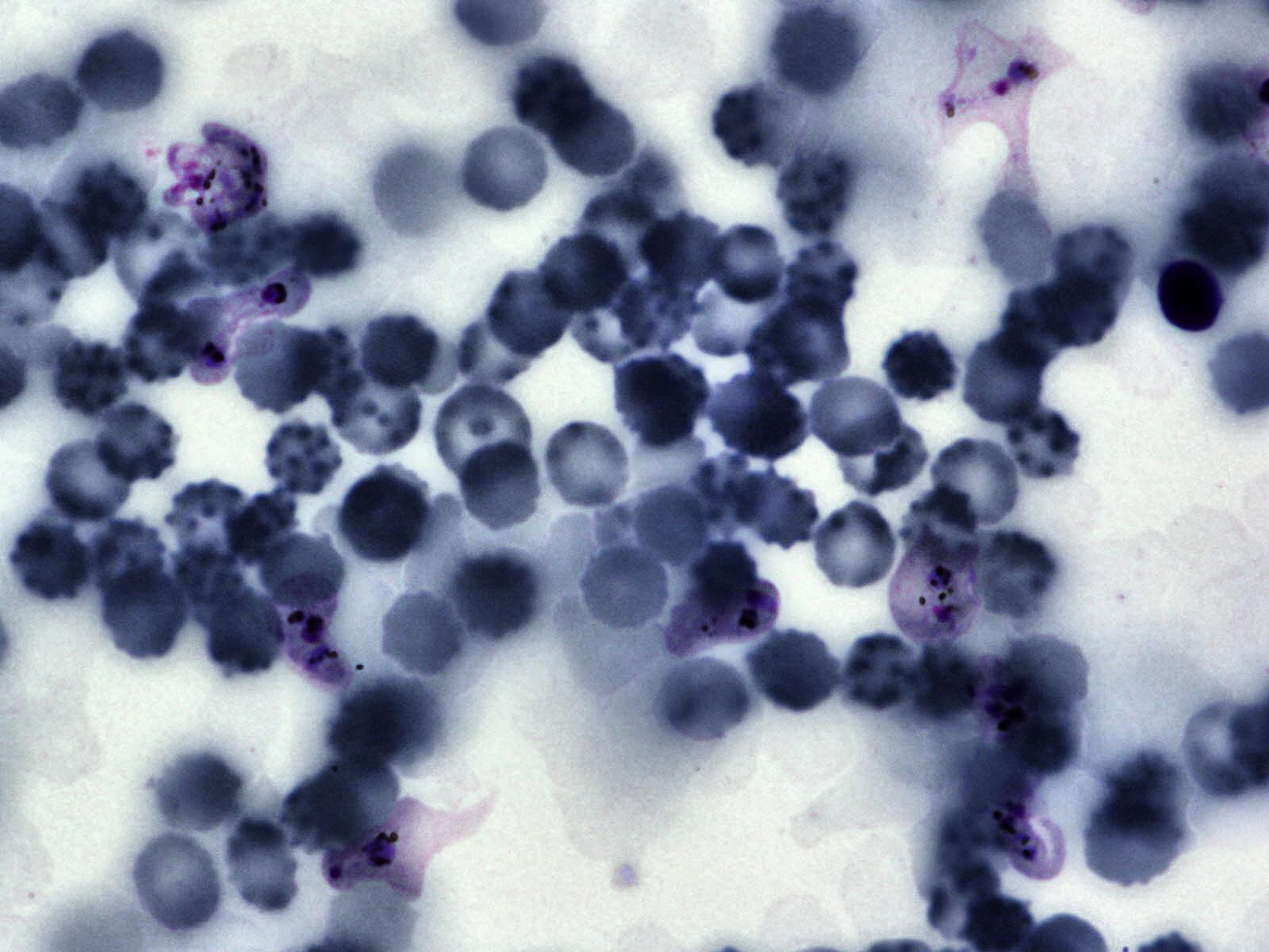Infected: (940, 25, 1056, 159), (322, 799, 475, 898), (159, 125, 269, 235), (889, 536, 983, 647), (266, 575, 350, 697), (660, 577, 780, 655), (987, 774, 1068, 881), (189, 268, 312, 324), (178, 317, 277, 385), (967, 654, 1045, 739), (1151, 254, 1229, 336)
Uninfected: (427, 378, 532, 489), (1079, 791, 1187, 892), (324, 357, 425, 459), (128, 828, 224, 935), (336, 466, 432, 568), (611, 350, 707, 451), (543, 87, 641, 185), (538, 416, 635, 515), (926, 435, 1025, 531), (959, 329, 1052, 431), (807, 498, 903, 596), (573, 537, 669, 633), (229, 318, 324, 415), (71, 25, 168, 119), (967, 527, 1061, 624), (113, 207, 207, 304), (712, 368, 807, 463), (658, 652, 753, 747), (40, 434, 139, 525), (218, 818, 306, 919), (747, 624, 841, 717), (455, 440, 546, 535), (832, 413, 930, 500), (689, 271, 787, 356), (151, 748, 244, 837), (378, 586, 466, 680), (103, 561, 186, 660), (508, 52, 599, 142), (803, 374, 897, 460), (168, 547, 258, 635), (573, 188, 665, 274), (487, 267, 575, 356), (462, 113, 541, 212), (1056, 222, 1138, 317), (362, 674, 444, 769), (89, 398, 181, 482), (202, 207, 295, 287), (355, 310, 443, 394), (703, 220, 787, 307), (994, 283, 1077, 371), (136, 263, 222, 347), (628, 482, 711, 569), (309, 757, 401, 835), (567, 278, 651, 363), (980, 189, 1053, 285), (1003, 635, 1091, 714), (261, 417, 347, 497), (541, 231, 624, 313), (739, 470, 820, 554), (776, 152, 855, 238), (612, 271, 700, 348), (772, 10, 855, 91), (450, 557, 533, 638), (12, 520, 92, 604), (165, 480, 250, 559), (277, 775, 362, 854), (840, 631, 918, 717), (641, 212, 728, 289), (202, 592, 282, 675), (25, 202, 109, 280), (773, 295, 850, 380), (456, 307, 538, 386), (784, 240, 861, 324), (880, 328, 960, 408), (1037, 268, 1117, 348), (46, 340, 131, 414), (990, 409, 1079, 479), (691, 453, 764, 538), (715, 82, 785, 170), (259, 532, 343, 605), (328, 689, 401, 770), (224, 487, 299, 563), (88, 519, 165, 592), (286, 211, 361, 282), (124, 308, 192, 386), (75, 164, 149, 234), (909, 645, 979, 718)
